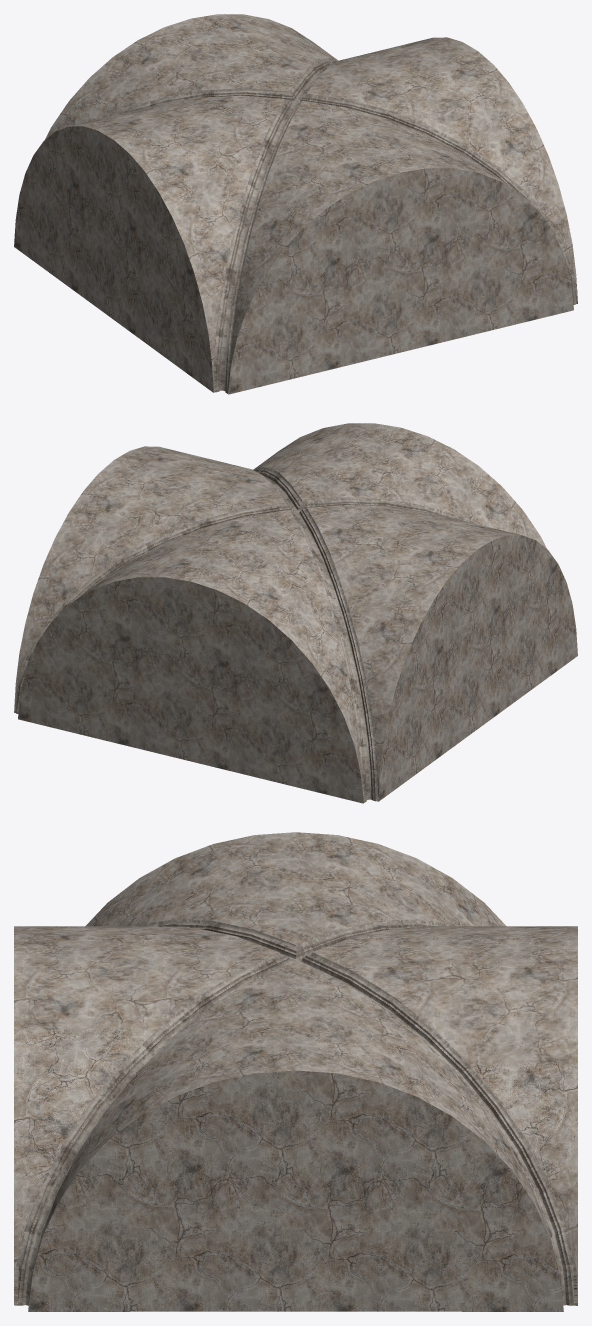
3 renders of one model, top to bottom at view 1: azimuth 30°, elevation 25°; view 2: azimuth 150°, elevation 25°; view 3: azimuth 270°, elevation 25°, orthographic. The views are drawn at different scales.
Visible parts, largest first — view 1: SM_Ceiling02c_v1_LOD0; view 2: SM_Ceiling02c_v1_LOD0; view 3: SM_Ceiling02c_v1_LOD0.
Part boxes in pixels (bbox=[...]): SM_Ceiling02c_v1_LOD0: bbox=[14, 14, 577, 394]; SM_Ceiling02c_v1_LOD0: bbox=[14, 423, 577, 803]; SM_Ceiling02c_v1_LOD0: bbox=[14, 832, 577, 1311].
Bounding box in the file's own units: 8 × 3.78 × 8.
Materials: 2 (2 with a texture image).
